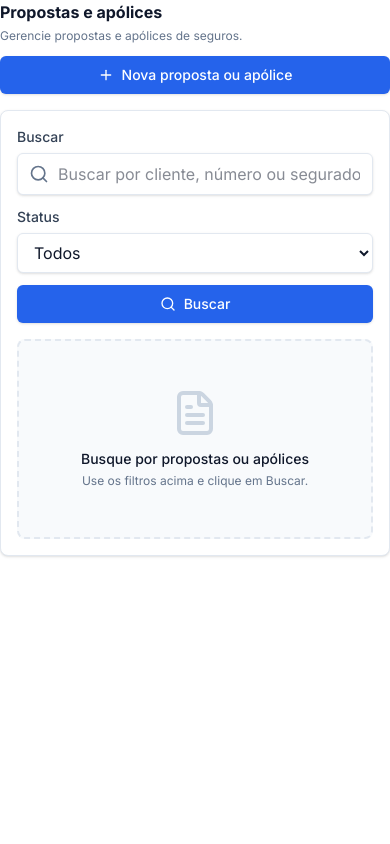
Test: DocumentList page › loads more documents when requested
The image size is (390, 844).
Click the button "Buscar".
click(195, 304)  # box x1=17 y1=285 x2=373 y2=323
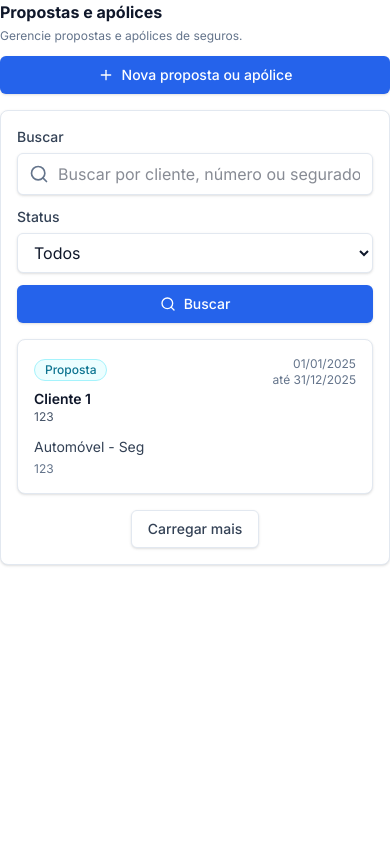
Expected: the text "Cliente 1" is shown, x1=34 y1=390 x2=91 y2=407
Click the button "Carregar mais".
click(195, 529)  # box x1=131 y1=510 x2=259 y2=548
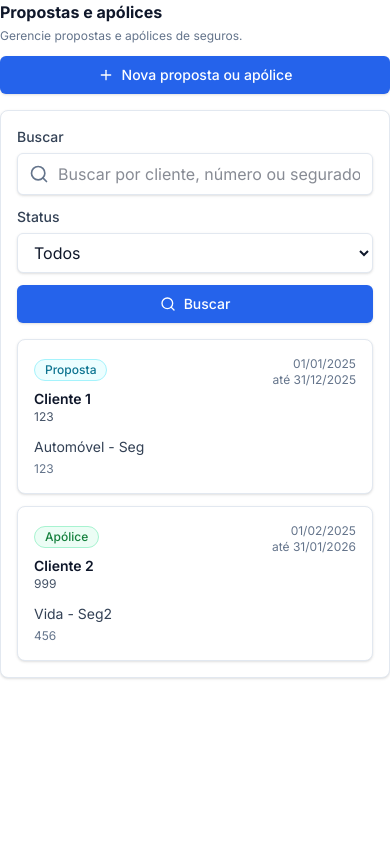
Expected: the text "Cliente 2" is shown, x1=34 y1=556 x2=99 y2=576
